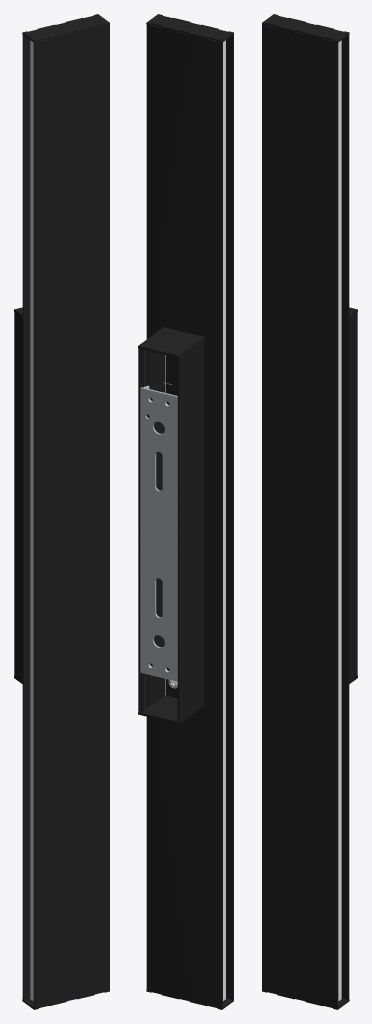
Rendered from Fit10Arandela.glb.
3 views of the same model, side by side, from view 1: azimuth 30°, elevation 25°; view 2: azimuth 150°, elevation 25°; view 3: azimuth 330°, elevation 25° (orthographic).
Visible parts, largest first — view 1: 3DGeom-83, 3DGeom-4, 3DGeom-76, 3DGeom-84; view 2: 3DGeom-83, 3DGeom-76, 3DGeom-73, 3DGeom-4, 3DGeom-78 (×2), 3DGeom-84; view 3: 3DGeom-83, 3DGeom-4, 3DGeom-76, 3DGeom-84.
Part boxes in pixels (x1,y1,x2,y2): 3DGeom-83: (22,24,109,1007); 3DGeom-4: (30,40,42,1001); 3DGeom-76: (14,312,22,681); 3DGeom-84: (22,14,109,42); 3DGeom-83: (146,25,233,1007); 3DGeom-76: (138,340,204,721); 3DGeom-73: (140,387,177,681); 3DGeom-4: (223,40,225,1000); 3DGeom-78 (×2): (138,327,204,724); 3DGeom-84: (146,14,233,42); 3DGeom-83: (262,24,349,1007); 3DGeom-4: (329,40,341,1001); 3DGeom-76: (349,312,357,681); 3DGeom-84: (262,14,349,42).
Size of the model in its own units: 0.05 by 0.6124 by 0.0431.
3 materials, 1 textured.
